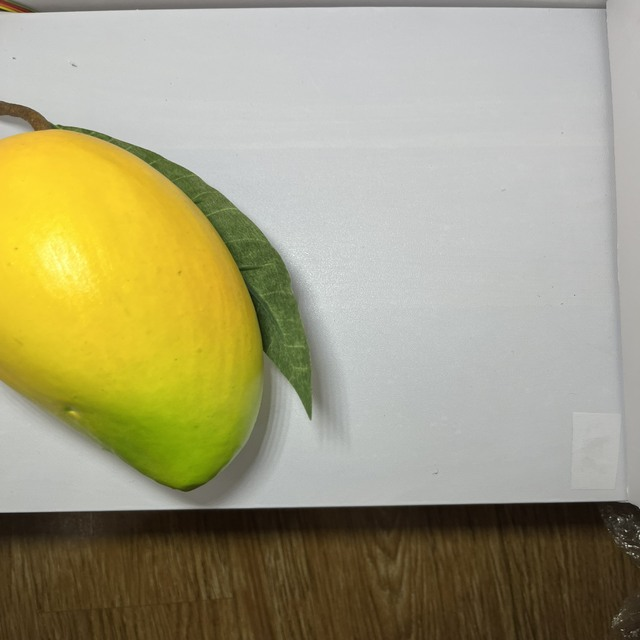Xoai: (2, 120, 265, 494)
